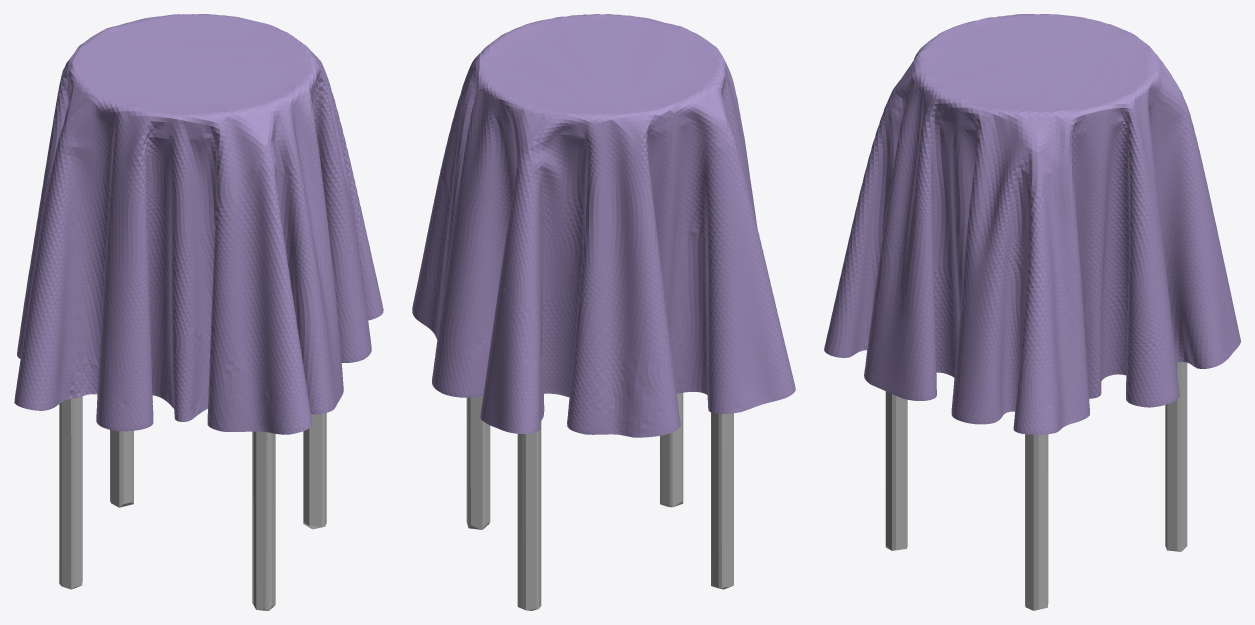
Rendered from level_3.glb.
3 renders of one model, left to right at view 1: azimuth 30°, elevation 25°; view 2: azimuth 150°, elevation 25°; view 3: azimuth 270°, elevation 25°, orthographic.
Parts seen in each view (by area): view 1: world, object.obj; view 2: world, object.obj; view 3: world, object.obj.
Part boxes in pixels (bbox=[...]): world: bbox=[14, 14, 383, 434]; object.obj: bbox=[59, 396, 326, 610]; world: bbox=[412, 14, 795, 437]; object.obj: bbox=[466, 393, 733, 610]; world: bbox=[824, 14, 1240, 434]; object.obj: bbox=[885, 362, 1187, 610].
Size of the model in its own units: 0.2472 by 0.3139 by 0.2442.
